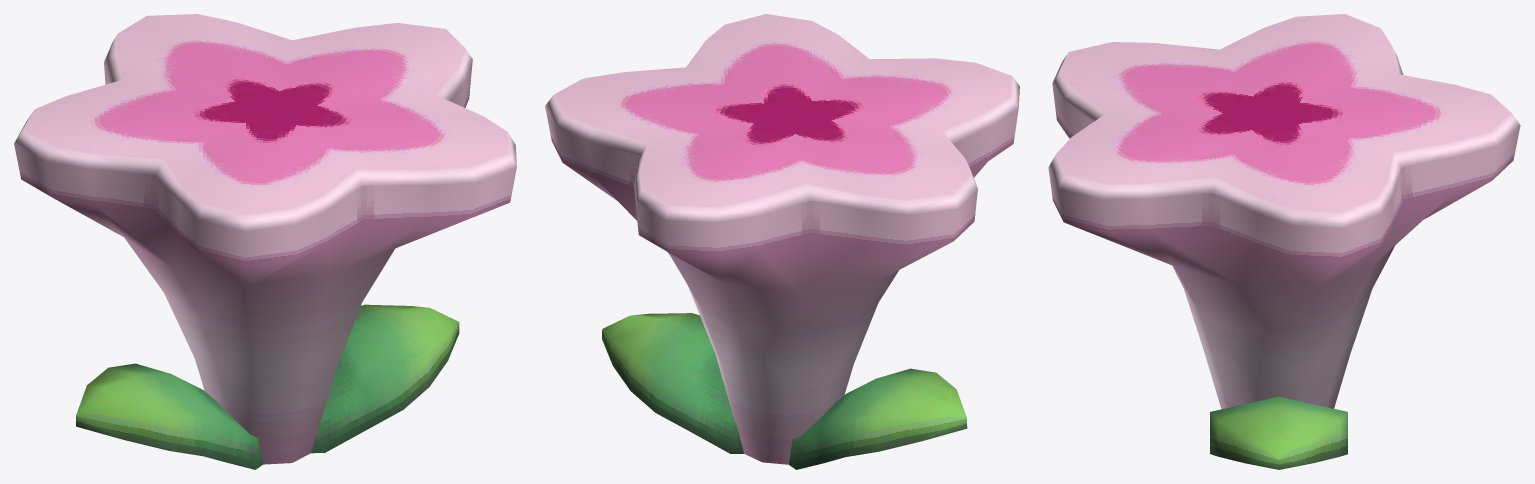
The model's file is rmk_flo_stool.dae.
The picture shows the model from 3 angles, left to right: view 1: azimuth 30°, elevation 25°; view 2: azimuth 150°, elevation 25°; view 3: azimuth 270°, elevation 25°; orthographic projection. The views are drawn at different scales.
Visible parts, largest first — view 1: rmk_flo_stool; view 2: rmk_flo_stool; view 3: rmk_flo_stool.
Boxes of the visible parts, x1=… form: rmk_flo_stool: x1=14, y1=14, x2=516, y2=469; rmk_flo_stool: x1=545, y1=14, x2=1019, y2=469; rmk_flo_stool: x1=1048, y1=14, x2=1520, y2=469.
Bounding box in the file's own units: 21.42 × 16 × 20.79.
Materials: 1 (1 with a texture image).
